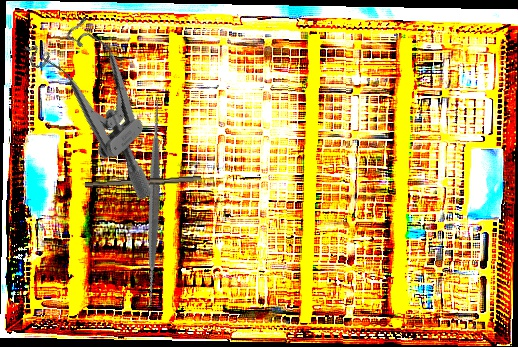Scalpel Handle: (84, 173, 202, 192)
Spatula Surgical: (43, 93, 264, 314)
Speculum: (10, 3, 204, 203)
